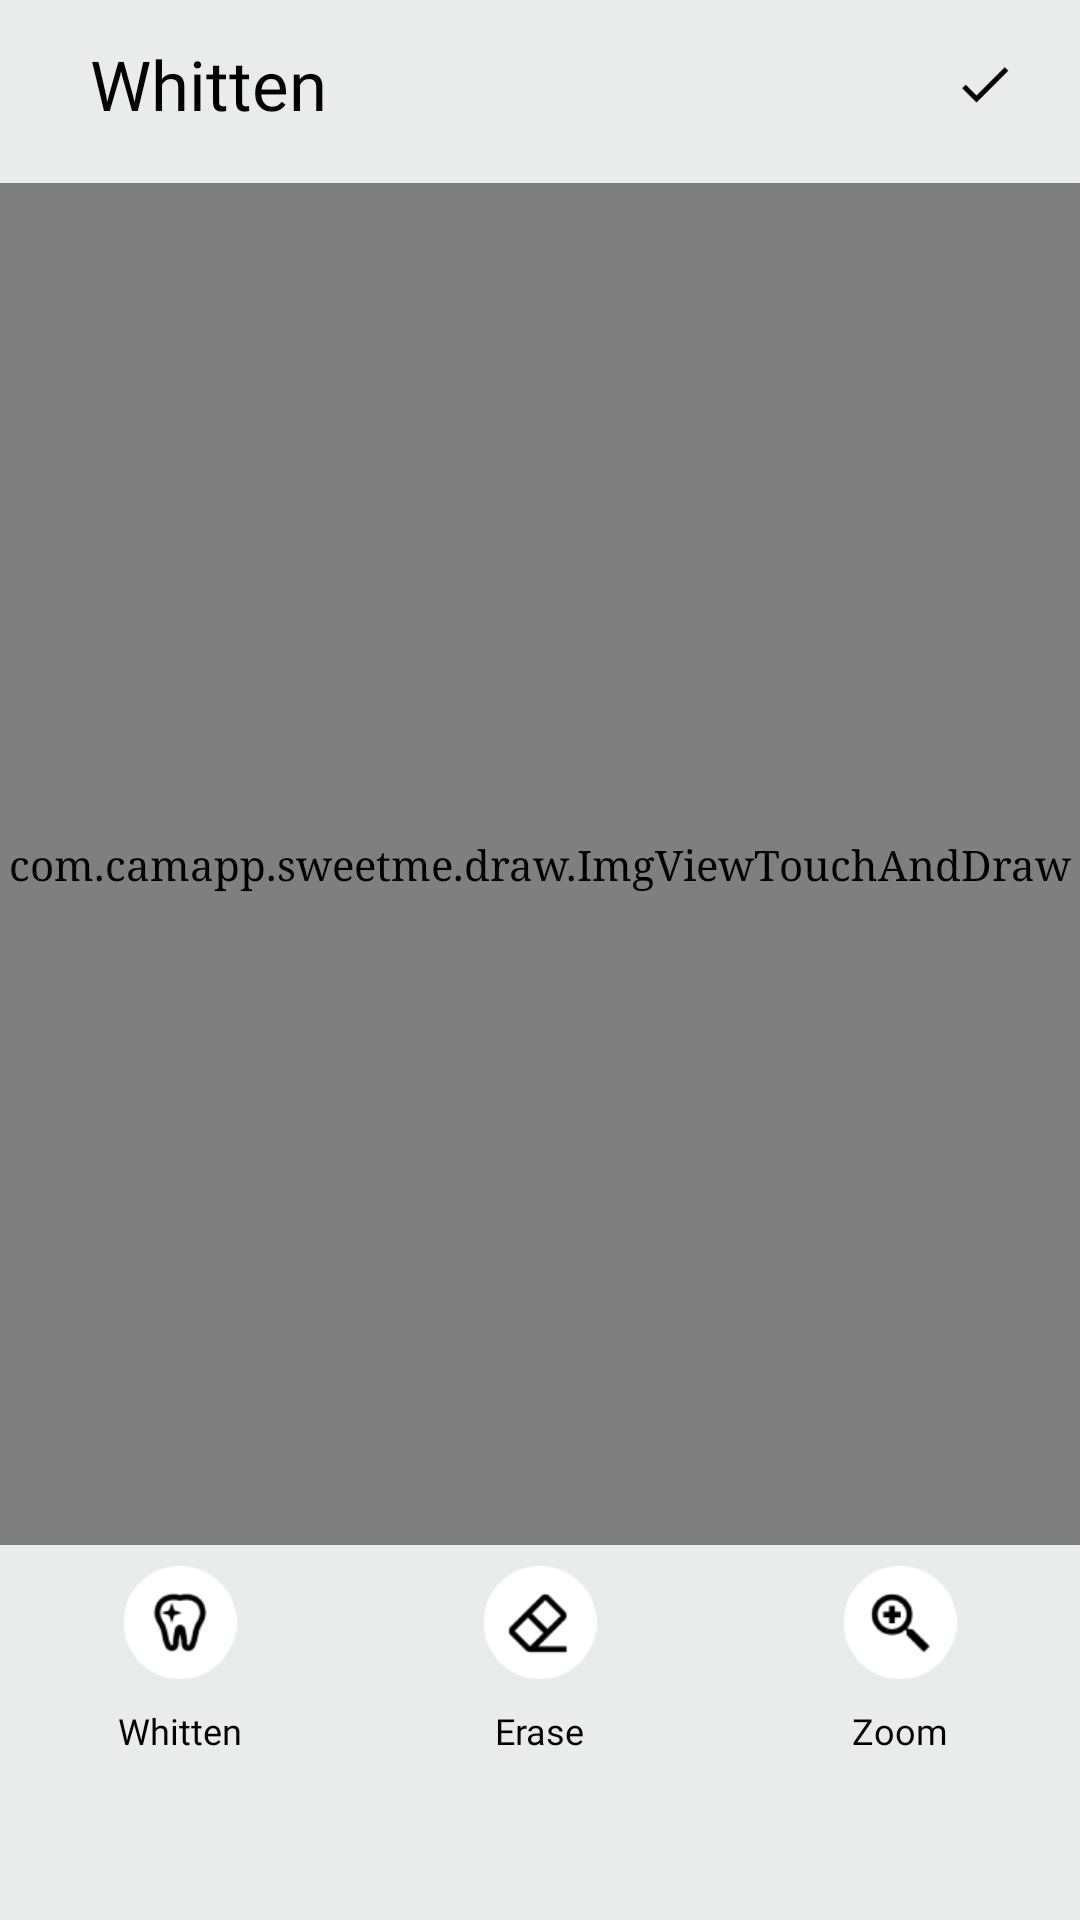

Named icons in this screenshot (1080x1920) and their centers, (x,y):
done: (985,85)
